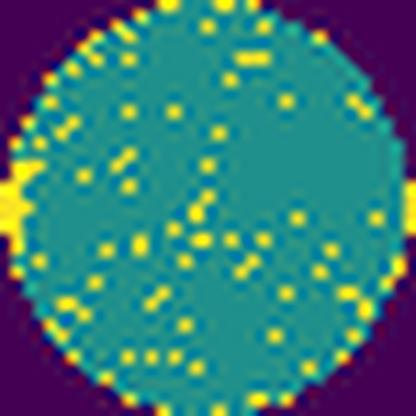Edge-Loc: (0, 154, 50, 256)
